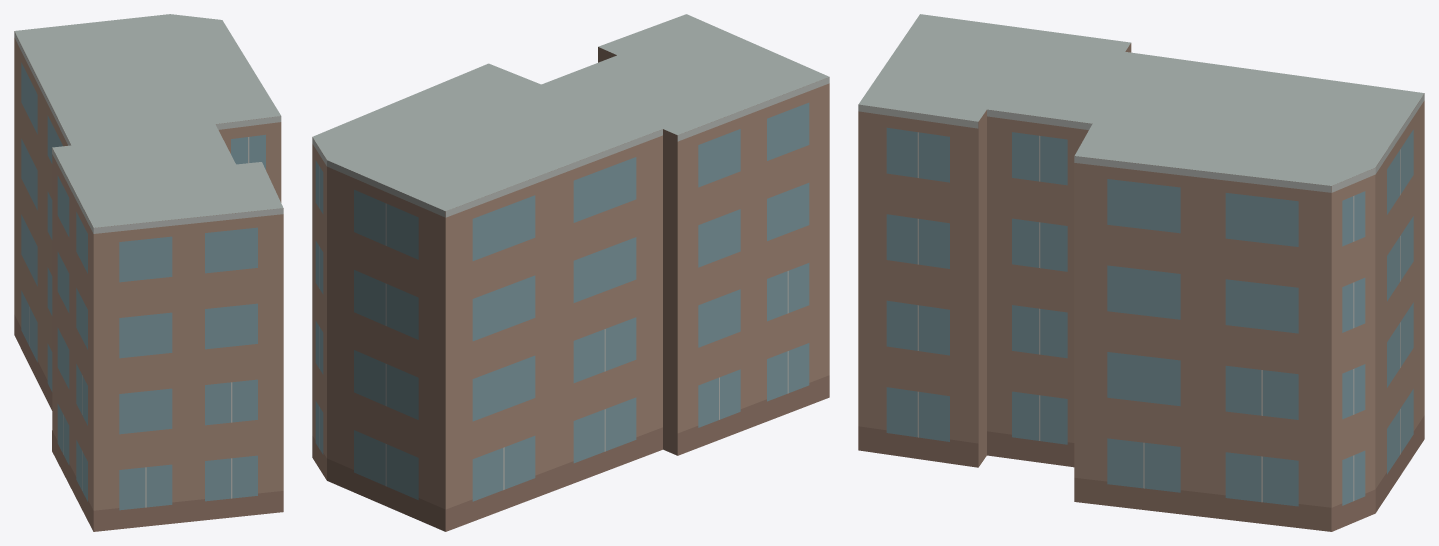
Rendered from survey-upis-32787469.glb.
3 views of the same model, side by side, from view 1: azimuth 30°, elevation 25°; view 2: azimuth 150°, elevation 25°; view 3: azimuth 270°, elevation 25° (orthographic). The views are drawn at different scales.
Visible parts, largest first — view 1: survey-upis-32787469.tmp; view 2: survey-upis-32787469.tmp; view 3: survey-upis-32787469.tmp.
Boxes of the visible parts, <box> form: survey-upis-32787469.tmp: <box>14,14,283,531</box>; survey-upis-32787469.tmp: <box>312,14,829,531</box>; survey-upis-32787469.tmp: <box>858,14,1424,531</box>.
Size of the model in its own units: 13.02 by 12.2 by 18.11.
